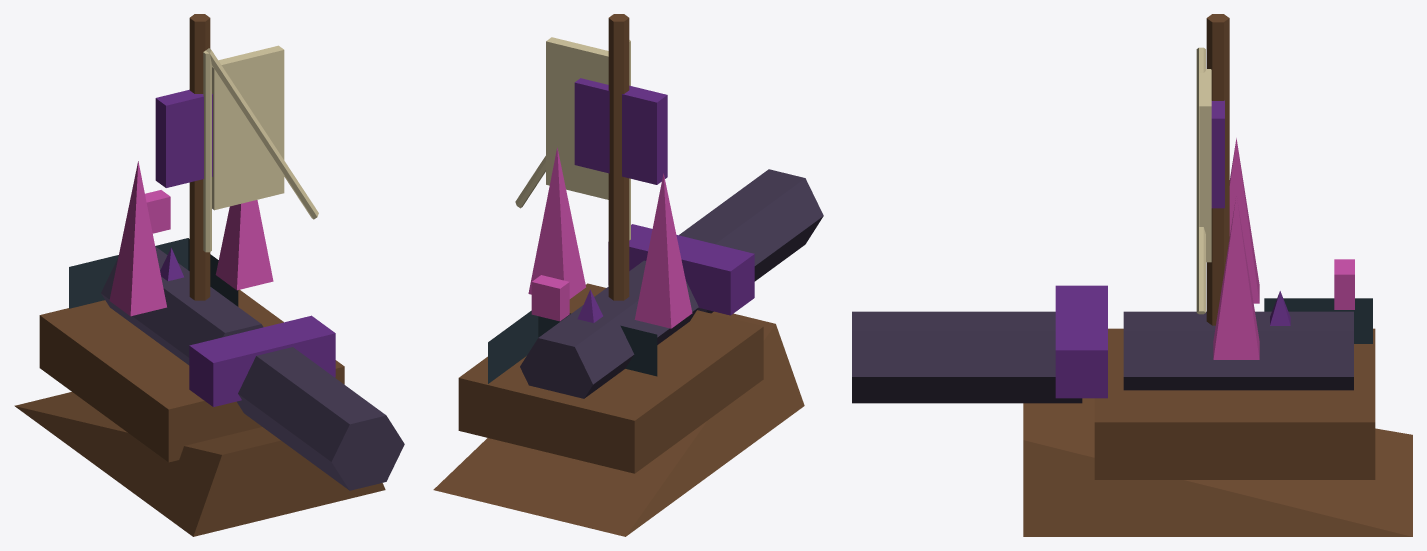
The model's file is heavy-warship.obj.
3 views of the same model, side by side, from view 1: azimuth 30°, elevation 25°; view 2: azimuth 150°, elevation 25°; view 3: azimuth 270°, elevation 25° (orthographic). The views are drawn at different scales.
Parts seen in each view (by area): view 1: ship; view 2: ship; view 3: ship.
Boxes of the visible parts, x1,y1,x2,y2 form: ship: (14, 14, 404, 536); ship: (433, 14, 823, 536); ship: (852, 14, 1412, 536).
Bounding box in the file's own units: 1.13 × 2.24 × 2.44.
